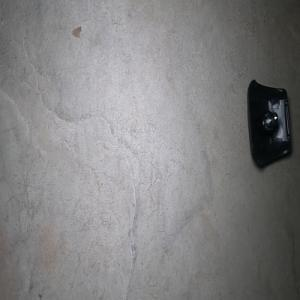LuggagePart: (246, 78, 292, 169)
